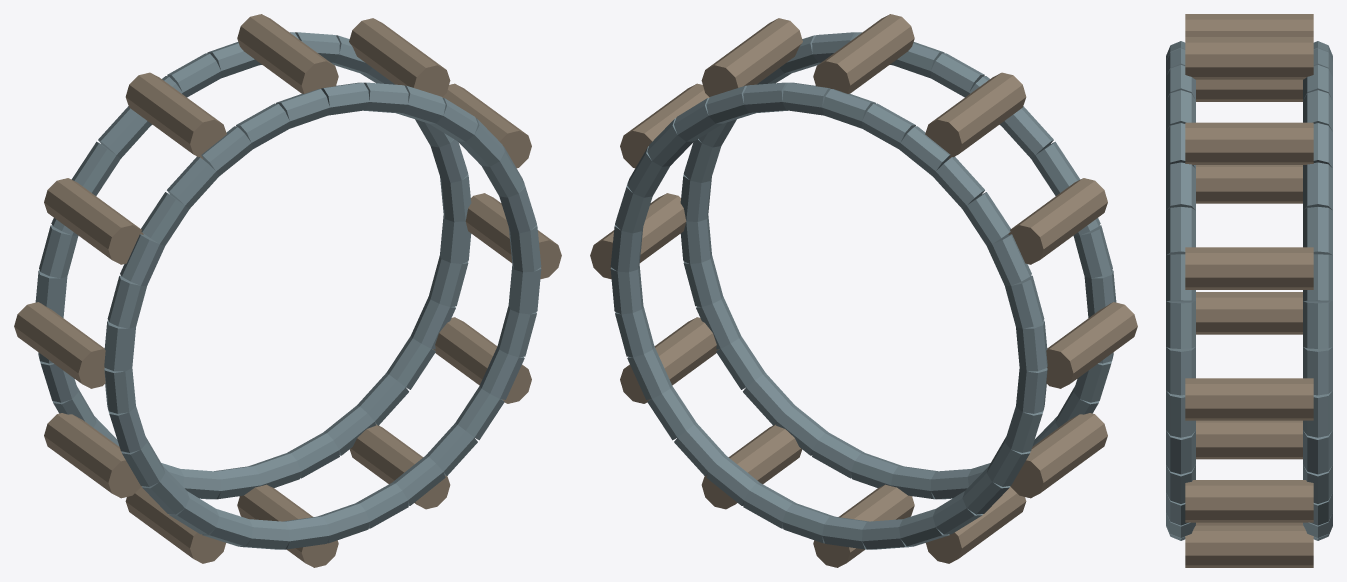
The model's file is a2_detail.glb.
The picture shows the model from 3 angles, left to right: view 1: azimuth 30°, elevation 25°; view 2: azimuth 150°, elevation 25°; view 3: azimuth 270°, elevation 25°; orthographic projection.
Visible parts, largest first — view 1: Body.014; view 2: Body.014; view 3: Body.014.
Boxes of the visible parts, x1,y1,x2,y2 form: Body.014: (14,14,561,567); Body.014: (590,14,1137,567); Body.014: (1166,14,1332,567).
Size of the model in its own units: 2.6 by 2.59 by 0.78.
